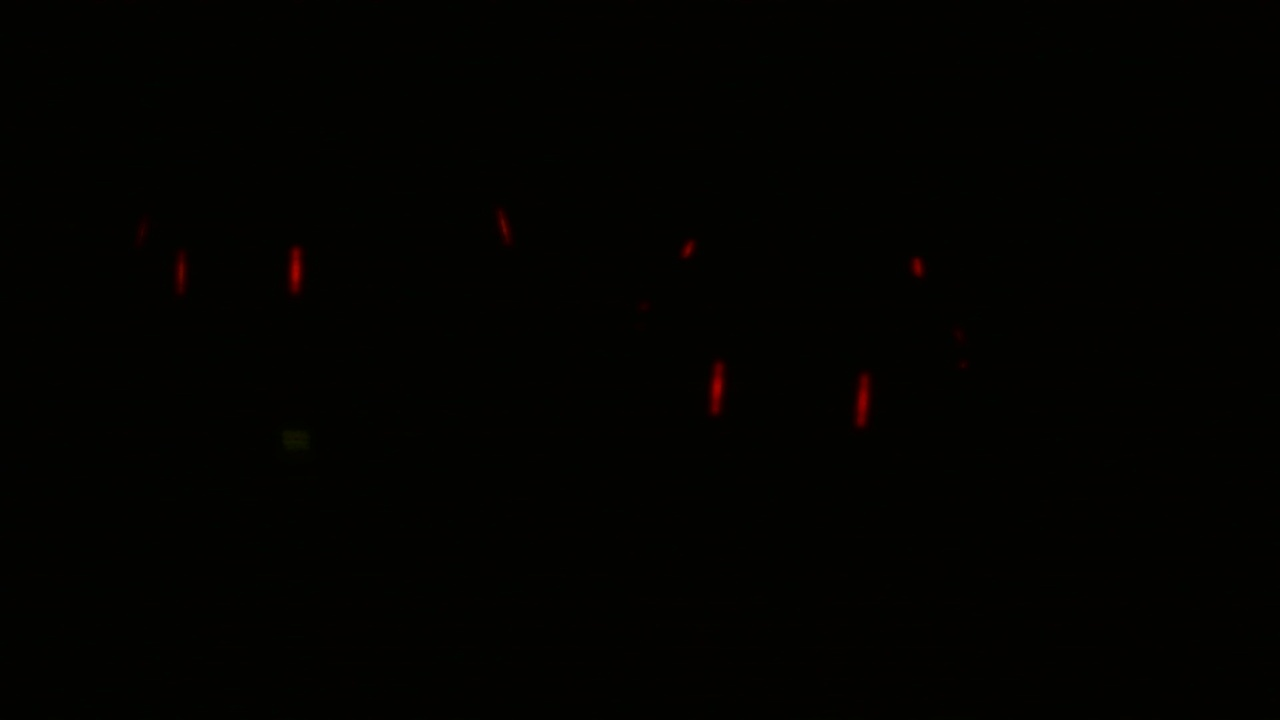pair1: (711, 347, 875, 436), (170, 242, 306, 298)
